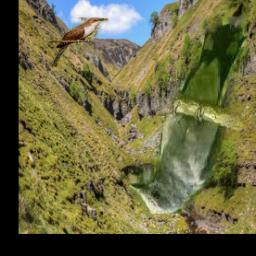Cuckoo: (130, 17, 247, 214), (49, 17, 109, 67)
